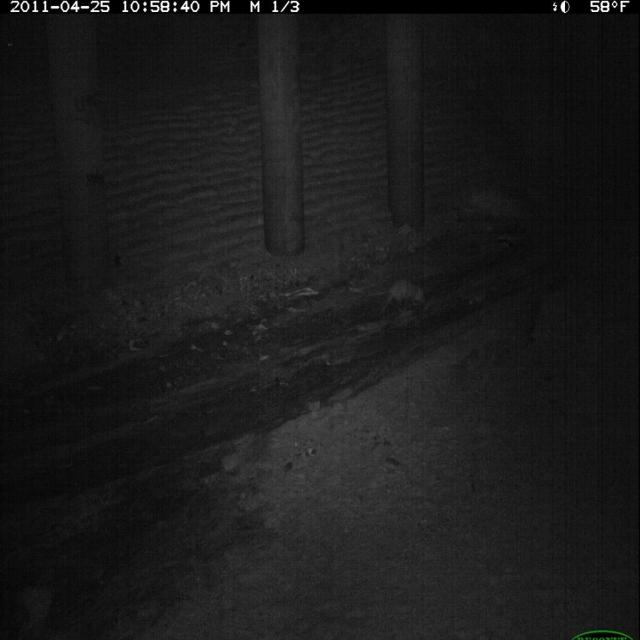opossum: (366, 274, 430, 322)
